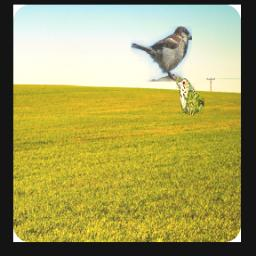Sparrow: (132, 26, 193, 82), (176, 79, 204, 119)
